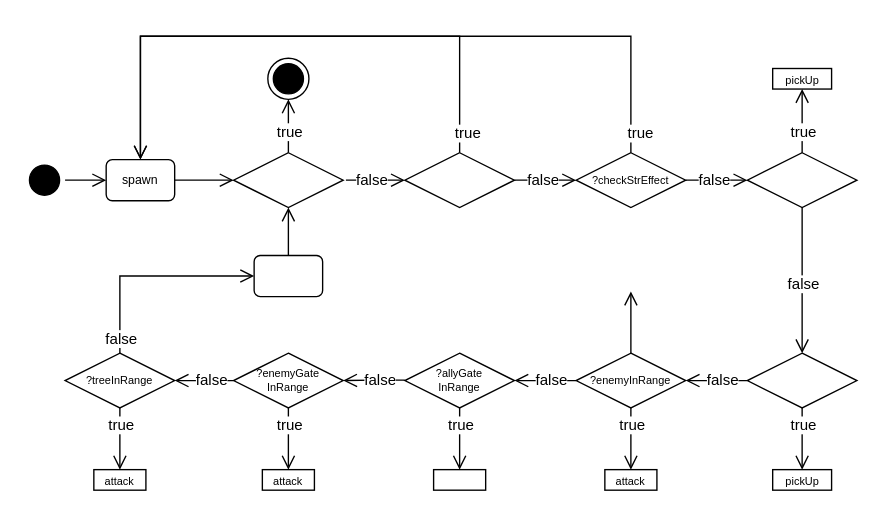
This 881x515 diagram has some shape labels left out. Each missing label, with the centre of its shape:
"?ally Princess InRange" goes at point (801, 179).
"?checkEnd" goes at point (287, 179).
"?checkHP" goes at point (458, 179).
"?enemy Princess InRange" goes at point (801, 380).
"move" goes at point (288, 275).
"repair" goes at point (459, 479).
